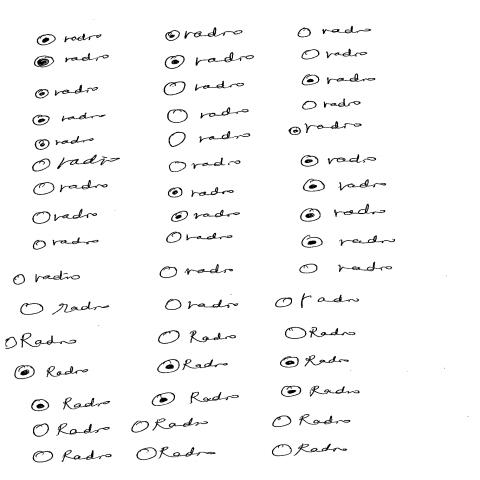Radio Button: (163, 52, 254, 70), (300, 204, 390, 222), (33, 155, 122, 173), (152, 390, 241, 408), (20, 302, 110, 318), (301, 235, 395, 250), (155, 357, 233, 375), (33, 179, 110, 197), (32, 449, 113, 466), (288, 119, 364, 137), (158, 330, 241, 346), (31, 111, 109, 128), (302, 178, 390, 193), (168, 108, 250, 124), (136, 446, 217, 462), (163, 81, 246, 96), (14, 365, 91, 381), (33, 423, 110, 439), (31, 397, 112, 412), (164, 27, 244, 42), (272, 443, 351, 458), (33, 53, 109, 68), (168, 159, 243, 174), (33, 210, 99, 227), (279, 355, 352, 370), (280, 385, 362, 398), (299, 155, 377, 168), (33, 136, 96, 152), (171, 210, 242, 224), (34, 85, 100, 100), (36, 33, 106, 47), (302, 74, 376, 87), (284, 328, 356, 340), (163, 300, 241, 311), (302, 100, 364, 112), (168, 188, 235, 199)
